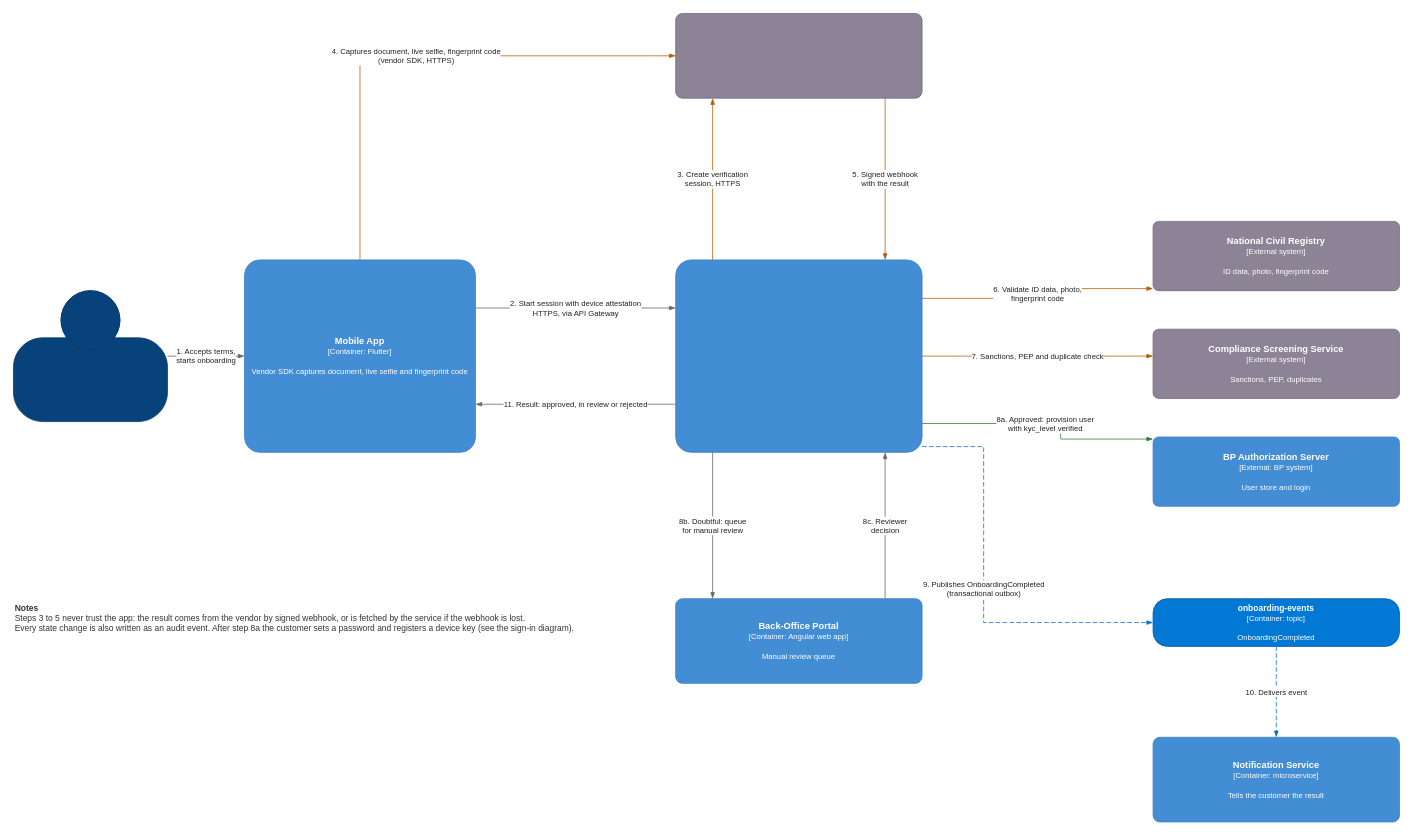
Image size: 1413x835. Some labels were removed from this diagram. The centre of each missing label's shape, as x and y in pixels:
Identity Verification Service [External system] Document, liveness, face match: point (798, 55)
Onboarding Service [Container: microservice, REST] State machine and decisions: point (798, 355)
Prospective customer [Person] Opens an account from the phone: point (90, 356)
